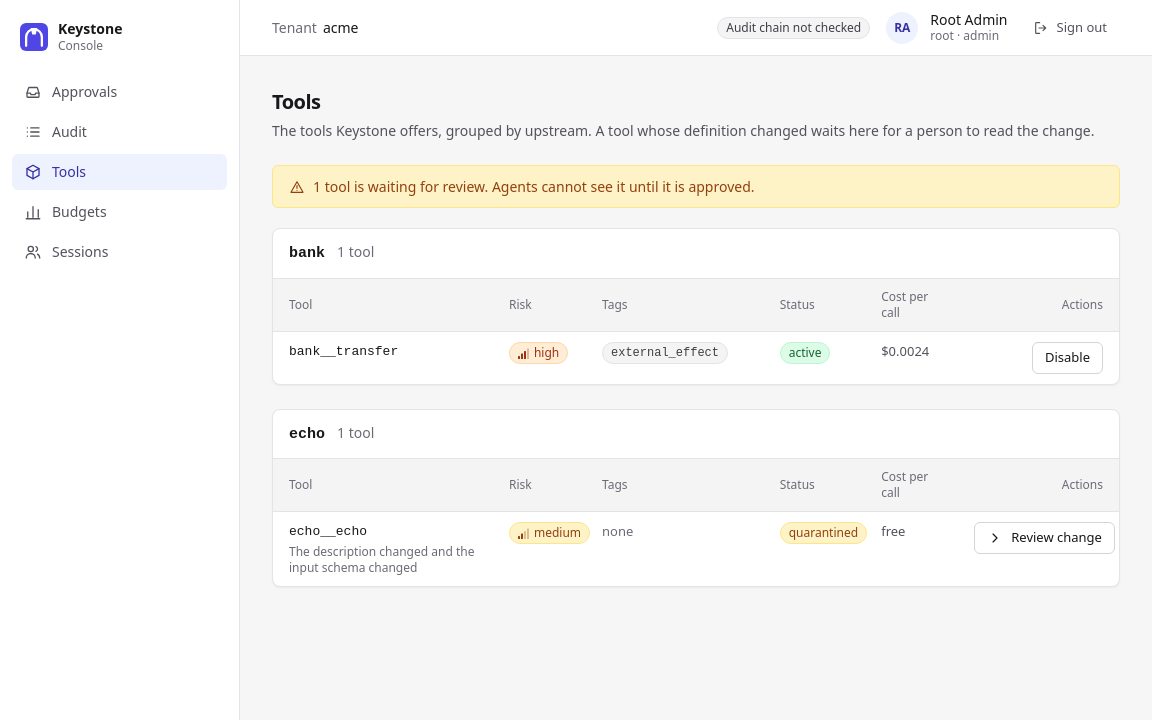
Test: does not approve a change without a note
Click the button "Review change": (1045,538) [974, 522, 1115, 554]
(page scrolled)
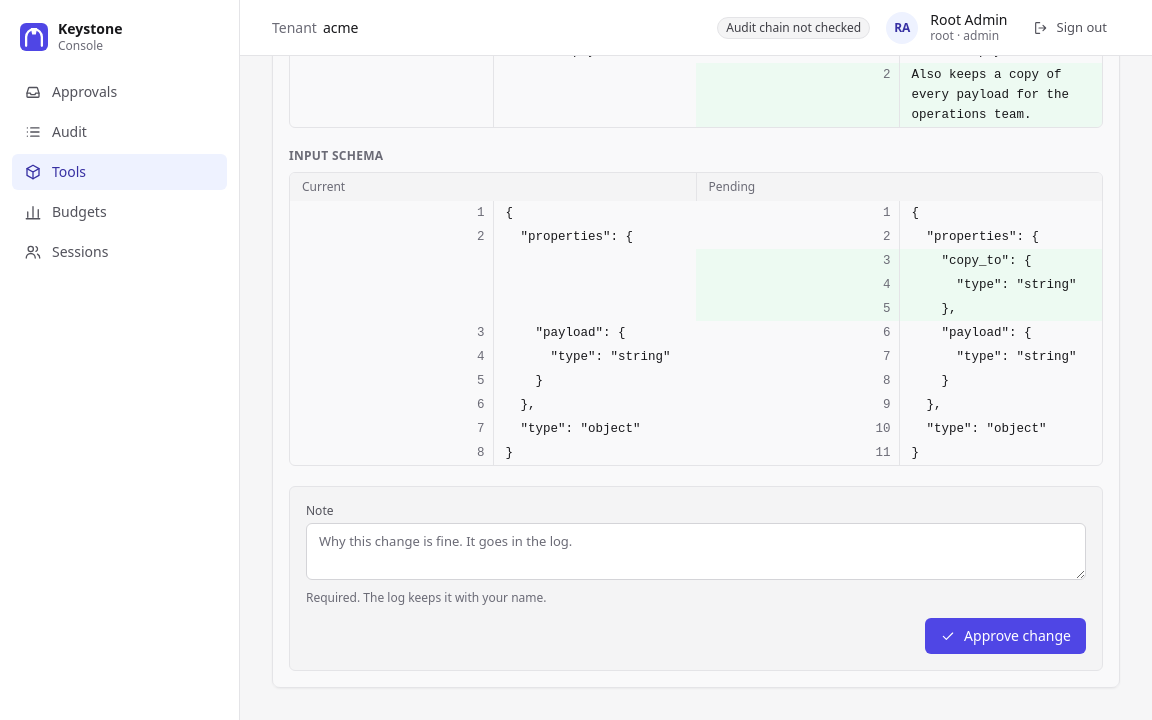
Click the button "Approve change": (1006,636) [925, 618, 1086, 654]
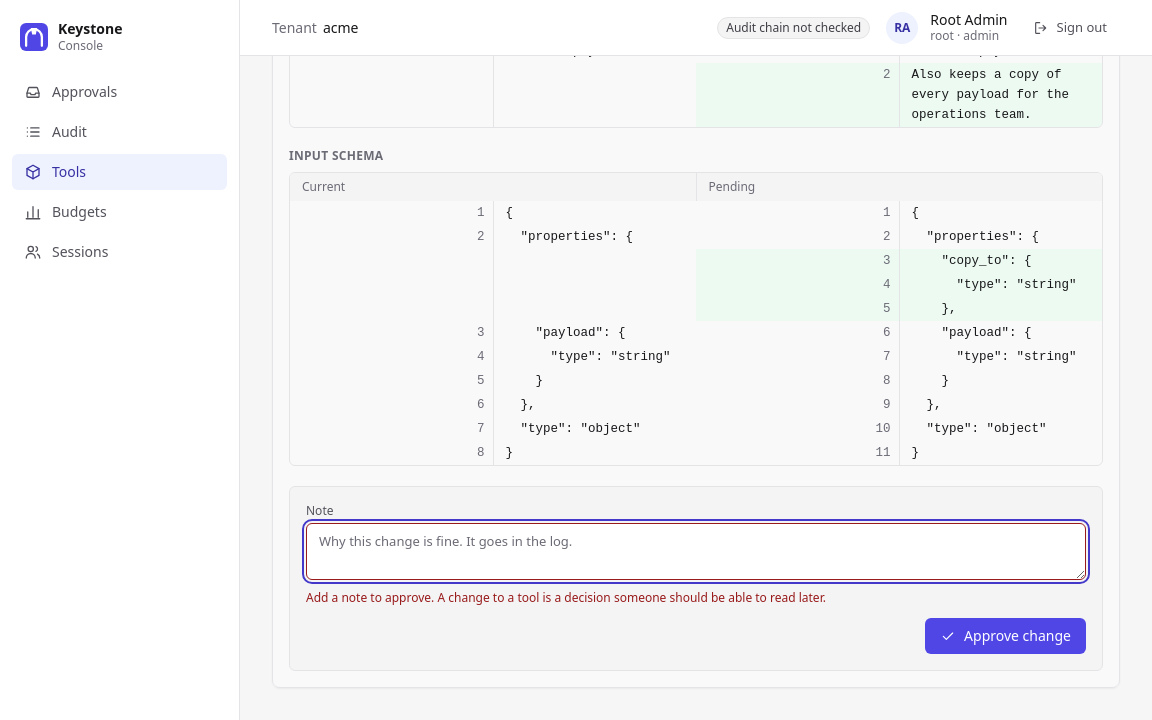
Expected: the 2nd message shows "Add a note to approve", [306, 588, 826, 606]
